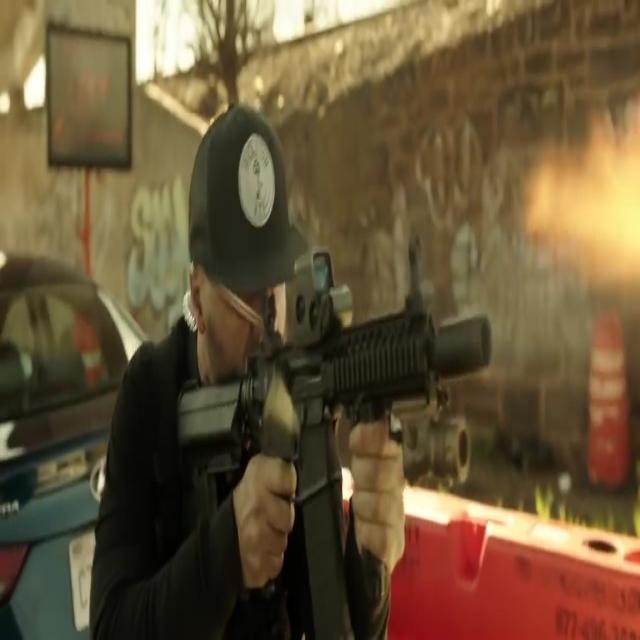Weapon: (157, 312, 476, 597)
